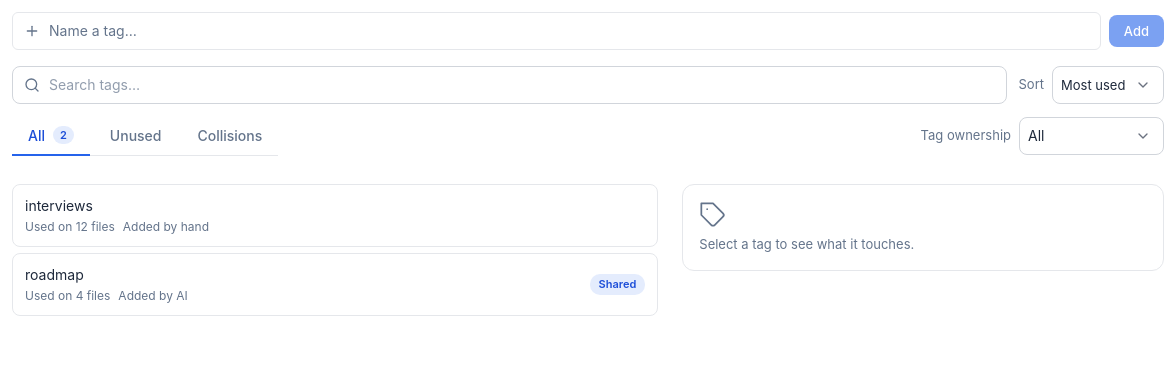
Test: tag manager modal › filters › switches to the grouped collision endpoint for the collisions view
The width and height of the screenshot is (1176, 370).
Check: the number of options is 2, box [12, 184, 658, 247]; [12, 253, 658, 316]
What coordinates should you click on to do the following:
click the tab "Collisions"
I would click on:
 (230, 136)
Its box is [182, 116, 278, 156].
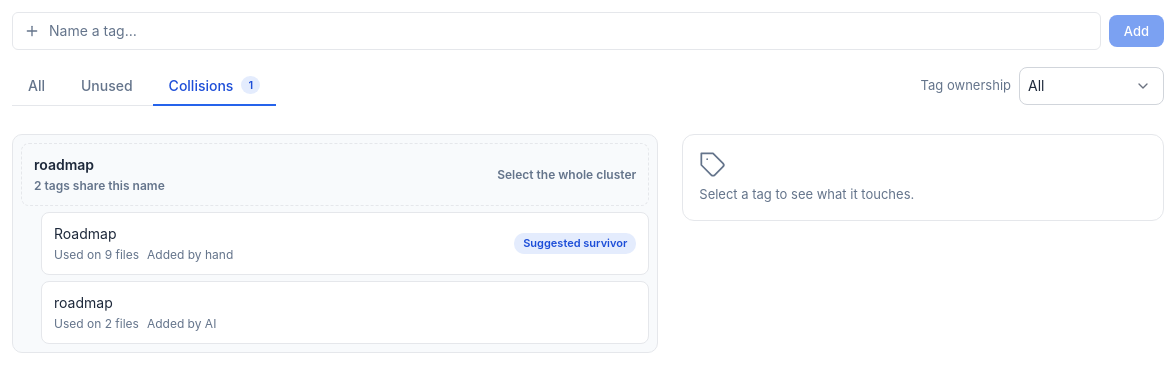
Check: the number of options is 3, box [21, 143, 649, 206]; [41, 212, 649, 275]; [41, 281, 649, 344]
Check: the text "2 tags share this name" is shown, box [34, 177, 165, 195]
